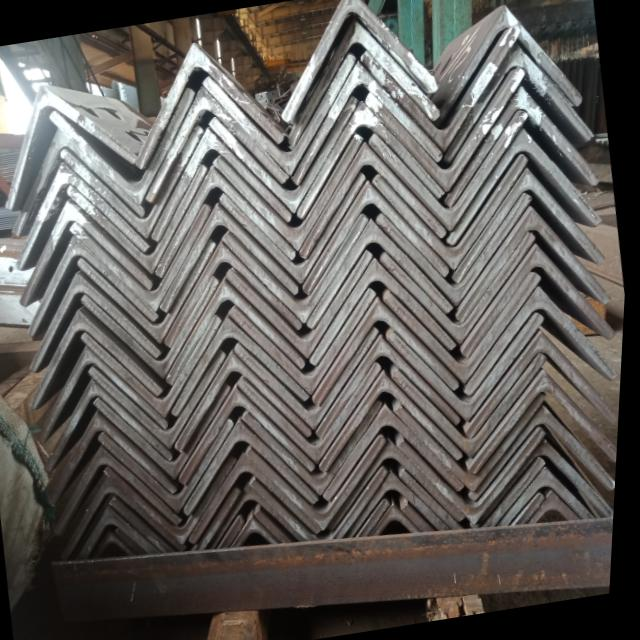metal-angles: (361, 24, 520, 154), (289, 17, 442, 150), (367, 68, 527, 193), (202, 49, 356, 178), (283, 0, 439, 123), (446, 85, 602, 208), (372, 111, 530, 231), (138, 40, 286, 168), (444, 40, 597, 163), (294, 61, 444, 186), (451, 127, 605, 247), (461, 206, 615, 324), (298, 99, 447, 220), (210, 94, 359, 215), (215, 133, 365, 253), (455, 167, 609, 283), (383, 233, 539, 347), (376, 155, 529, 271), (387, 272, 546, 383), (437, 5, 584, 125), (378, 194, 534, 307), (466, 243, 618, 358), (391, 313, 549, 423), (470, 328, 623, 440), (51, 88, 196, 205), (469, 287, 623, 397), (303, 142, 449, 258), (307, 180, 454, 295), (8, 82, 139, 211), (222, 171, 369, 285), (148, 86, 292, 202), (474, 367, 622, 477), (153, 128, 295, 242), (63, 123, 205, 237), (314, 258, 461, 368), (397, 354, 551, 459), (225, 213, 370, 324), (233, 285, 380, 394), (232, 249, 376, 360), (317, 298, 463, 407), (158, 165, 299, 277), (312, 219, 457, 327), (68, 164, 211, 273), (163, 200, 301, 312), (398, 392, 551, 493), (72, 204, 212, 314), (325, 369, 469, 474), (322, 336, 465, 441), (14, 126, 148, 238), (242, 361, 386, 464), (169, 241, 307, 348), (239, 326, 382, 429), (18, 161, 152, 270), (172, 279, 311, 384), (81, 238, 220, 343), (85, 276, 225, 380), (402, 428, 551, 524), (181, 349, 317, 453), (85, 316, 225, 417), (475, 404, 620, 501), (185, 384, 322, 486), (22, 200, 155, 305), (177, 316, 315, 417), (93, 348, 231, 449), (251, 434, 391, 533), (248, 397, 388, 496), (330, 403, 470, 501), (98, 382, 237, 480), (34, 272, 164, 374), (190, 419, 325, 516), (35, 309, 167, 408), (30, 236, 161, 335), (44, 344, 173, 443), (104, 418, 241, 511), (55, 410, 184, 508), (334, 439, 470, 531), (50, 378, 178, 472), (195, 452, 327, 543), (110, 454, 242, 541), (59, 447, 188, 536), (65, 476, 192, 560), (255, 466, 393, 541), (350, 470, 458, 539), (501, 465, 603, 526), (85, 506, 170, 561), (531, 490, 589, 523), (375, 505, 428, 536), (236, 515, 287, 546)
